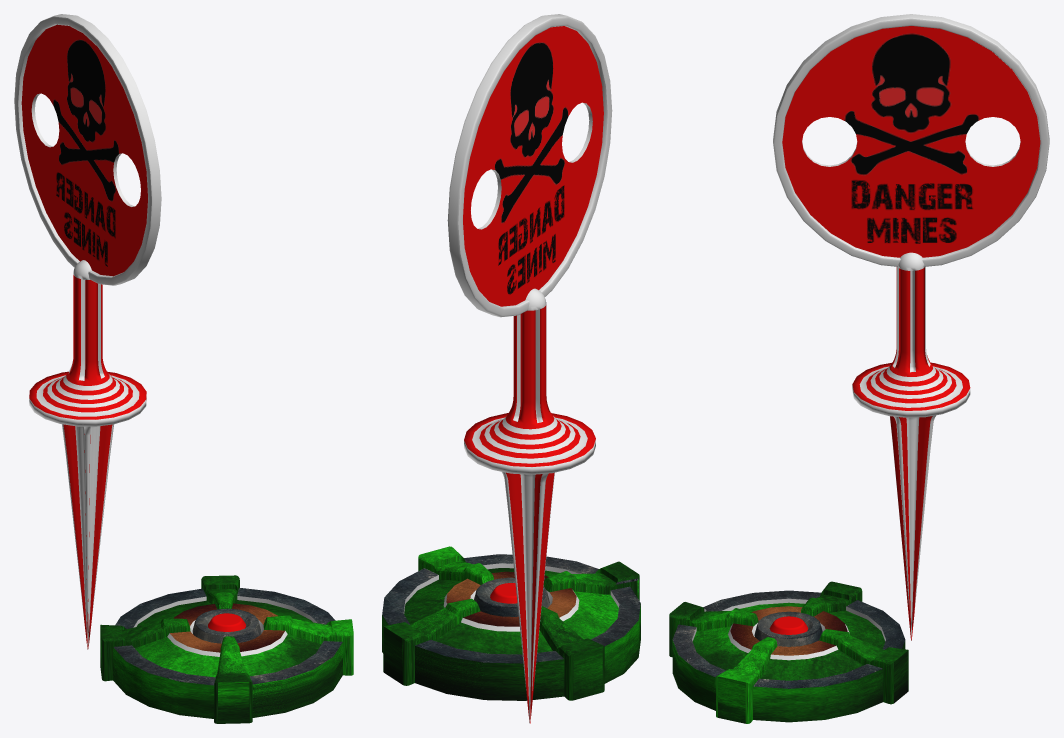
The model's file is land_mine.fbx.
3 renders of one model, left to right at view 1: azimuth 30°, elevation 25°; view 2: azimuth 150°, elevation 25°; view 3: azimuth 270°, elevation 25°, orthographic. The views are drawn at different scales.
Parts seen in each view (by area): view 1: pCylinder11, pCylinder12; view 2: pCylinder11, pCylinder12; view 3: pCylinder11, pCylinder12.
Part boxes in pixels (x1,y1,x2,y2): pCylinder11: (14, 14, 161, 649); pCylinder12: (100, 575, 353, 723); pCylinder11: (447, 14, 612, 723); pCylinder12: (382, 546, 640, 700); pCylinder11: (773, 14, 1049, 640); pCylinder12: (669, 581, 908, 723).
Size of the model in its own units: 2.82 by 7.26 by 4.
